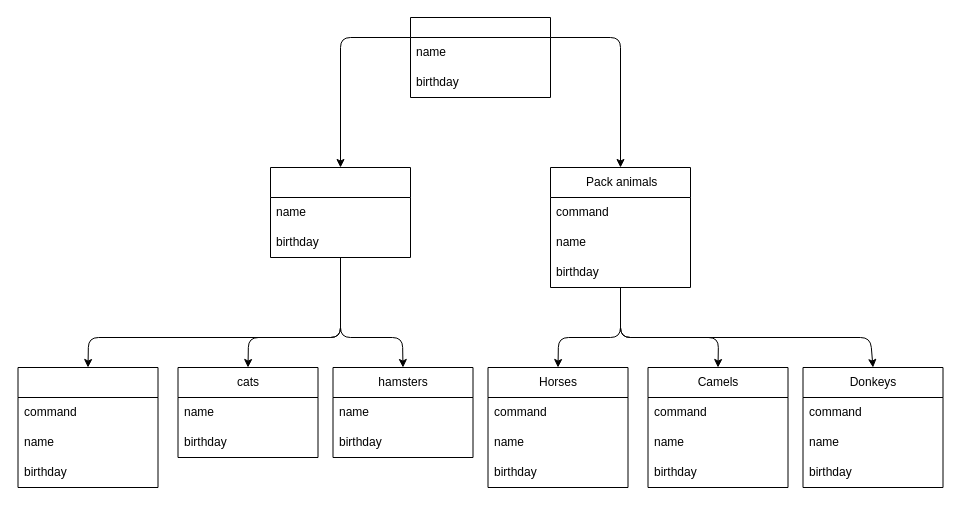
Some shapes in this 960 by 505 pixel diagram are drawn without their labels. Each missing label, with the box of its shape:
Animals: (410, 16, 550, 98)
dogs: (17, 366, 158, 488)
Pets: (270, 166, 410, 258)
